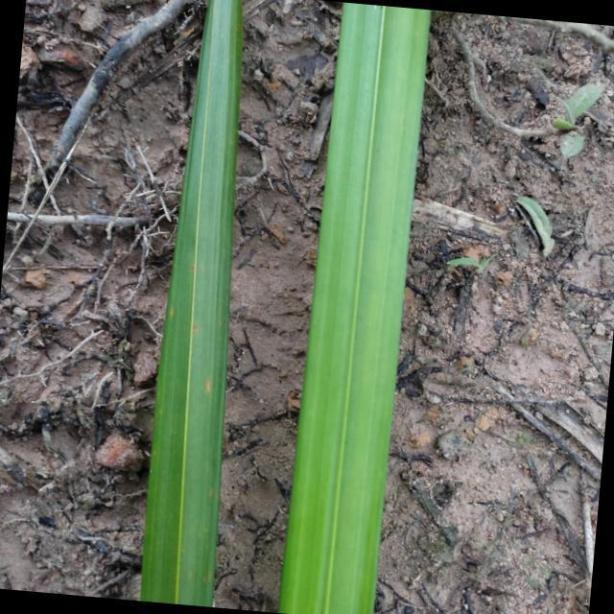nitrogen: (272, 0, 433, 614)
